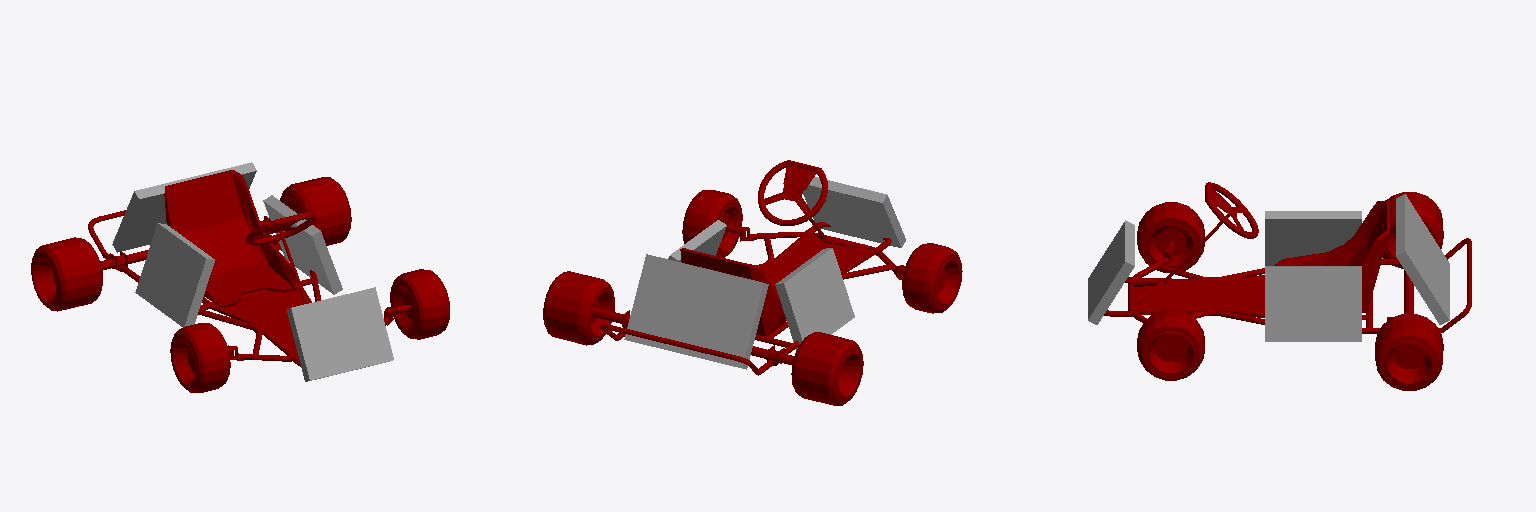
File: juggernaut.obj
The picture shows the model from 3 angles: view 1: azimuth 30°, elevation 25°; view 2: azimuth 150°, elevation 25°; view 3: azimuth 270°, elevation 25°; orthographic projection.
Visible parts, largest first — view 1: Chassis_Untitled, Front_Cube.001, Right_Cube.003, BR_Wheel_Untitled.001, FR_Wheel_Untitled.002, FL_Wheel_Untitled.007, BL_Wheel_Untitled.005, Back_Cube.004, Left_Cube.002, Steering_Wheel_Untitled.009; view 2: Back_Cube.004, Chassis_Untitled, Right_Cube.003, BR_Wheel_Untitled.001, Front_Cube.001, BL_Wheel_Untitled.005, FR_Wheel_Untitled.002, Steering_Wheel_Untitled.009, FL_Wheel_Untitled.007, Left_Cube.002, RearAxle_Untitled.008; view 3: Chassis_Untitled, Left_Cube.002, BL_Wheel_Untitled.005, Back_Cube.004, Right_Cube.003, FL_Wheel_Untitled.007, FR_Wheel_Untitled.002, Front_Cube.001, Steering_Wheel_Untitled.009, BR_Wheel_Untitled.001.
Part boxes in pixels (left/top/right/bottom): Chassis_Untitled: left=88, top=170, right=394, bottom=366; Front_Cube.001: left=286, top=287, right=393, bottom=381; Right_Cube.003: left=135, top=223, right=214, bottom=326; BR_Wheel_Untitled.001: left=31, top=237, right=102, bottom=311; FR_Wheel_Untitled.002: left=170, top=323, right=230, bottom=392; FL_Wheel_Untitled.007: left=390, top=269, right=449, bottom=339; BL_Wheel_Untitled.005: left=280, top=177, right=351, bottom=245; Back_Cube.004: left=112, top=162, right=256, bottom=252; Left_Cube.002: left=263, top=195, right=342, bottom=294; Steering_Wheel_Untitled.009: left=246, top=212, right=315, bottom=303; Back_Cube.004: left=624, top=254, right=768, bottom=369; Chassis_Untitled: left=600, top=222, right=904, bottom=375; Right_Cube.003: left=775, top=248, right=854, bottom=350; BR_Wheel_Untitled.001: left=791, top=332, right=863, bottom=405; Front_Cube.001: left=803, top=177, right=905, bottom=247; BL_Wheel_Untitled.005: left=543, top=271, right=614, bottom=345; FR_Wheel_Untitled.002: left=902, top=243, right=962, bottom=313; Steering_Wheel_Untitled.009: left=758, top=160, right=827, bottom=239; FL_Wheel_Untitled.007: left=682, top=190, right=742, bottom=257; Left_Cube.002: left=668, top=220, right=726, bottom=262; RearAxle_Untitled.008: left=591, top=307, right=793, bottom=364; Chassis_Untitled: left=1104, top=200, right=1471, bottom=333; Left_Cube.002: left=1265, top=266, right=1361, bottom=341; BL_Wheel_Untitled.005: left=1375, top=314, right=1443, bottom=390; Back_Cube.004: left=1396, top=194, right=1449, bottom=324; Right_Cube.003: left=1265, top=211, right=1361, bottom=265; FL_Wheel_Untitled.007: left=1137, top=309, right=1204, bottom=380; FR_Wheel_Untitled.002: left=1137, top=202, right=1204, bottom=272; Front_Cube.001: left=1088, top=220, right=1134, bottom=324; Steering_Wheel_Untitled.009: left=1165, top=182, right=1258, bottom=280; BR_Wheel_Untitled.001: left=1383, top=192, right=1443, bottom=268.
Bounding box in the file's own units: 1.84 × 0.7919 × 2.09.